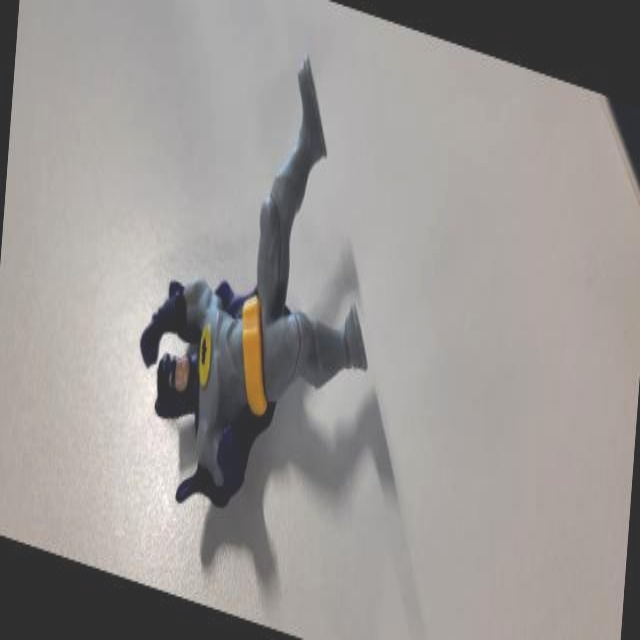Batman: (129, 0, 391, 566)
